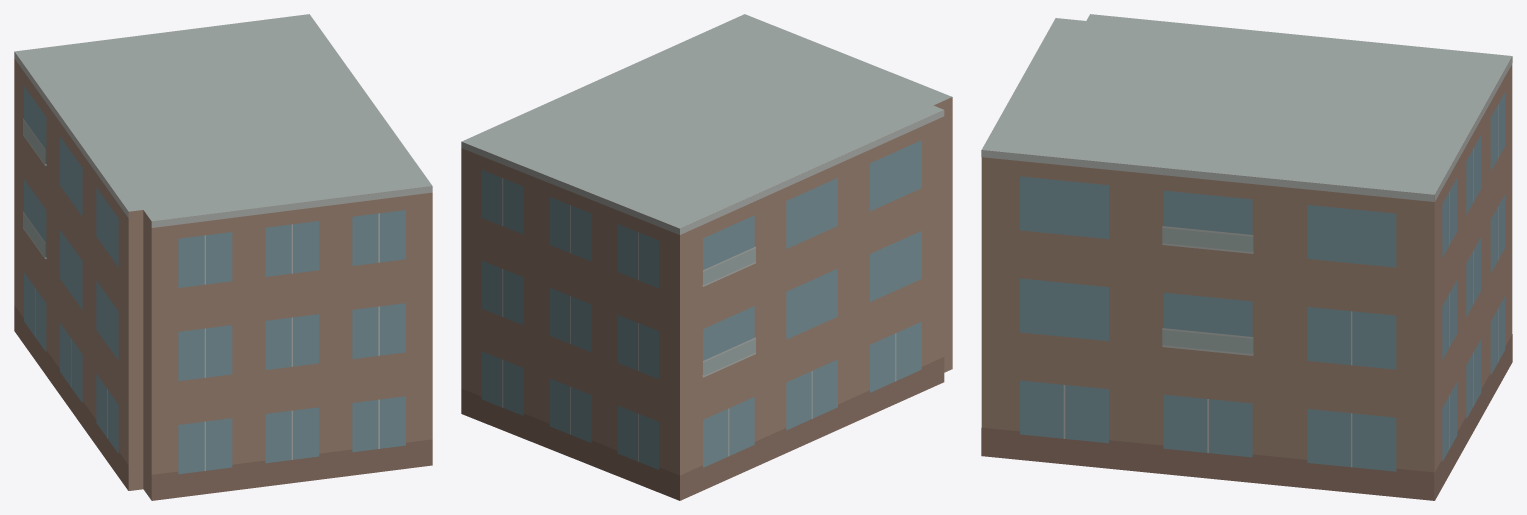
Rendered from survey-upis-32820853.glb.
3 views of the same model, side by side, from view 1: azimuth 30°, elevation 25°; view 2: azimuth 150°, elevation 25°; view 3: azimuth 270°, elevation 25° (orthographic). The views are drawn at different scales.
Parts seen in each view (by area): view 1: survey-upis-32820853.tmp; view 2: survey-upis-32820853.tmp; view 3: survey-upis-32820853.tmp.
Part boxes in pixels (left/top/right/bottom): survey-upis-32820853.tmp: left=14, top=14, right=432, bottom=500; survey-upis-32820853.tmp: left=461, top=14, right=952, bottom=500; survey-upis-32820853.tmp: left=981, top=14, right=1512, bottom=500.
Bounding box in the file's own units: 13.06 × 10.3 × 16.21.
